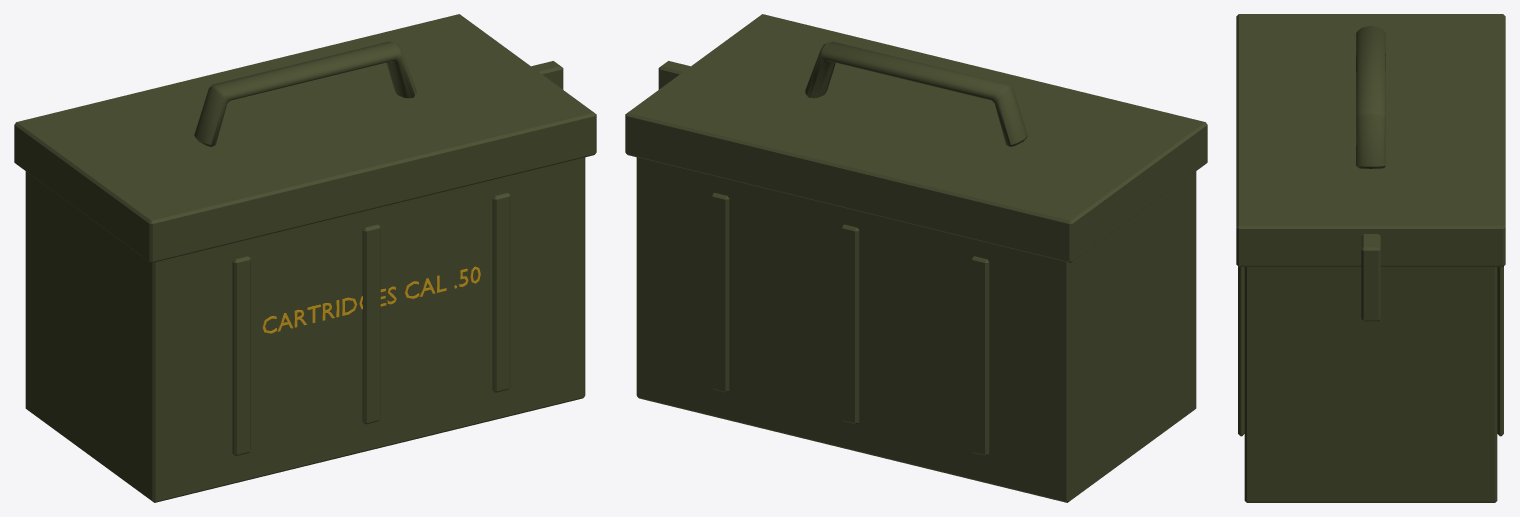
File: ammo_box.glb
3 renders of one model, left to right at view 1: azimuth 30°, elevation 25°; view 2: azimuth 150°, elevation 25°; view 3: azimuth 270°, elevation 25°, orthographic. The views are drawn at different scales.
Visible parts, largest first — view 1: ammo_box, text; view 2: ammo_box; view 3: ammo_box.
Boxes of the visible parts, x1,y1,x2,y2 form: ammo_box: (14,14,596,502); text: (262,266,480,333); ammo_box: (625,14,1207,502); ammo_box: (1236,14,1505,502).
Size of the model in its own units: 0.331 by 0.2249 by 0.165.
